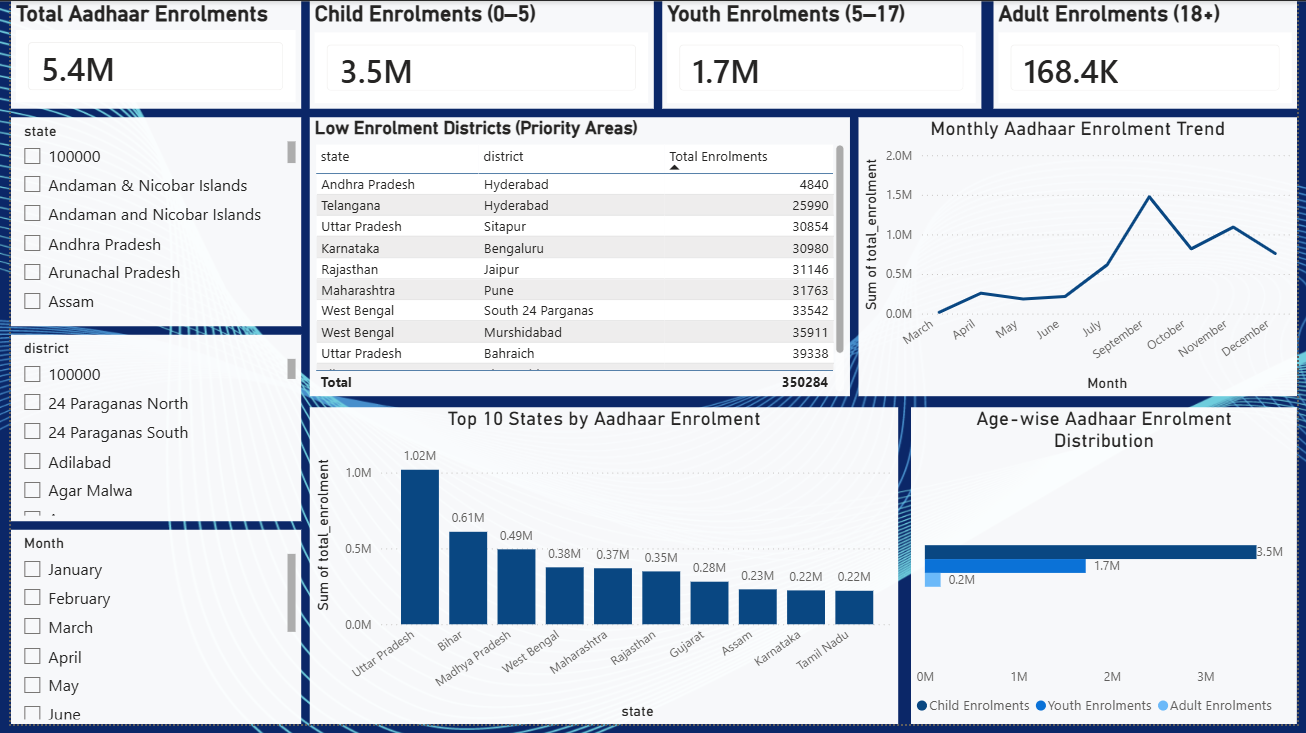

The page's visual inventory and layout, read from the dashboard file:
{"tool":"powerbi","page":{"name":"Page 1","canvas":[1280,720],"ordinal":0},"visuals":[{"type":"clusteredBarChart","title":"Age-wise Aadhaar Enrolment Distribution","fields":{"Y":["final_aadhaar_enrolment_cleaned.Child Enrolments","final_aadhaar_enrolment_cleaned.Youth Enrolments","final_aadhaar_enrolment_cleaned.Adult Enrolments"]},"box":[895.7,404.3,384.4,316],"z":0},{"type":"clusteredColumnChart","title":"Top 10 States by Aadhaar Enrolment","fields":{"Category":["final_aadhaar_enrolment_cleaned.state"],"Y":["Sum(final_aadhaar_enrolment_cleaned.total_enrolment)"]},"box":[297.3,404.3,585.9,316],"z":1000},{"type":"lineChart","title":"Monthly Aadhaar Enrolment Trend","fields":{"Category":["final_aadhaar_enrolment_cleaned.date.Variation.Date Hierarchy.Month"],"Y":["Sum(final_aadhaar_enrolment_cleaned.total_enrolment)"]},"box":[843.4,115.7,436.6,277.4],"z":2000},{"type":"slicer","fields":{"Values":["final_aadhaar_enrolment_cleaned.state"]},"box":[0,115.7,288.6,207.7],"z":3000},{"type":"slicer","fields":{"Values":["final_aadhaar_enrolment_cleaned.date.Variation.Date Hierarchy.Month"]},"box":[0,526.2,288.6,194.1],"z":4000},{"type":"cardVisual","title":"Total Aadhaar Enrolments","fields":{"Data":["Sum(final_aadhaar_enrolment_cleaned.total_enrolment)"]},"box":[0,0,288.6,107],"z":5000},{"type":"cardVisual","title":"Child Enrolments (0–5)","fields":{"Data":["final_aadhaar_enrolment_cleaned.Child Enrolments"]},"box":[297.3,0,342.1,107],"z":6000},{"type":"cardVisual","title":"Youth Enrolments (5–17)","fields":{"Data":["final_aadhaar_enrolment_cleaned.Youth Enrolments"]},"box":[648.1,0,317.2,107],"z":7000},{"type":"cardVisual","title":"Adult Enrolments (18+)","fields":{"Data":["final_aadhaar_enrolment_cleaned.Adult Enrolments"]},"box":[977.8,0,302.3,107],"z":8000},{"type":"tableEx","title":"Low Enrolment Districts (Priority Areas)","fields":{"Values":["final_aadhaar_enrolment_cleaned.state","final_aadhaar_enrolment_cleaned.district","final_aadhaar_enrolment_cleaned.Total Enrolments"]},"box":[297.3,115.7,537.4,277.4],"z":9000},{"type":"slicer","fields":{"Values":["final_aadhaar_enrolment_cleaned.district"]},"box":[0,332.1,288.6,185.3],"z":9001}]}

Visuals, with their boxes in screenshot pixels (x1, y1, x2, y2), scaled from the page's 1280x720 canvas onto the 1306x733 screenshot:
"Age-wise Aadhaar Enrolment Distribution" clusteredBarChart: 914, 412, 1305, 732
"Top 10 States by Aadhaar Enrolment" clusteredColumnChart: 303, 412, 901, 732
"Monthly Aadhaar Enrolment Trend" lineChart: 861, 118, 1305, 400
slicer - final_aadhaar_enrolment_cleaned.state: 0, 118, 294, 329
slicer - final_aadhaar_enrolment_cleaned.date.Variation.Date Hierarchy.Month: 0, 536, 294, 732
"Total Aadhaar Enrolments" cardVisual: 0, 0, 294, 109
"Child Enrolments (0–5)" cardVisual: 303, 0, 652, 109
"Youth Enrolments (5–17)" cardVisual: 661, 0, 985, 109
"Adult Enrolments (18+)" cardVisual: 998, 0, 1305, 109
"Low Enrolment Districts (Priority Areas)" tableEx: 303, 118, 852, 400
slicer - final_aadhaar_enrolment_cleaned.district: 0, 338, 294, 527
